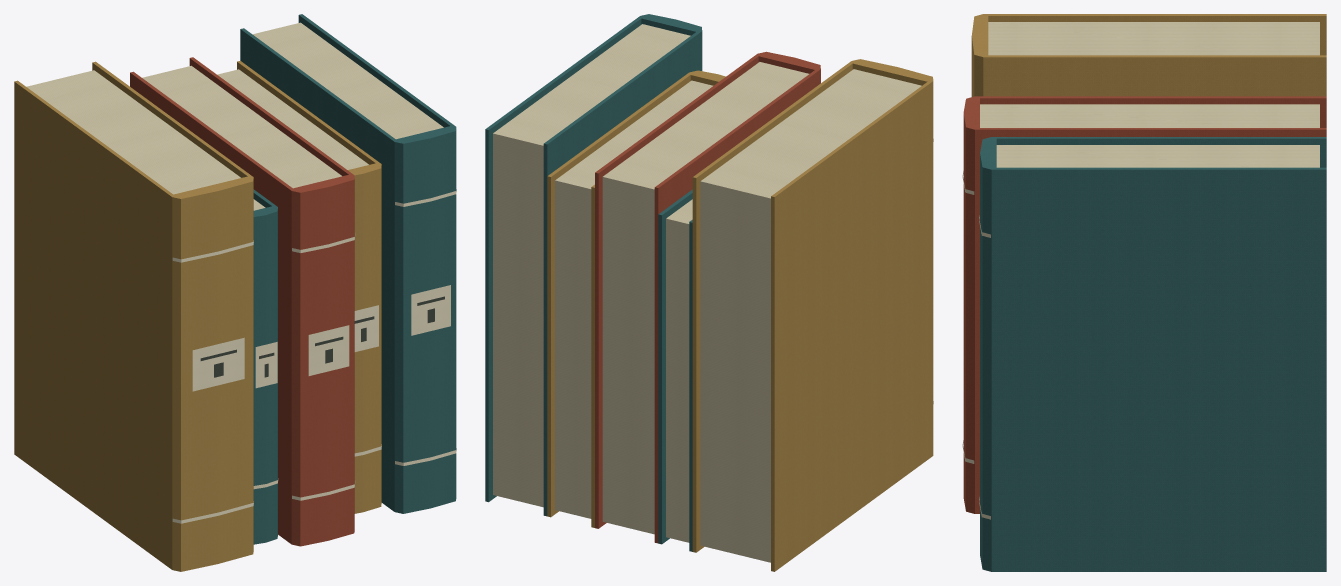
The model's file is quiet_books_right.glb.
3 renders of one model, left to right at view 1: azimuth 30°, elevation 25°; view 2: azimuth 150°, elevation 25°; view 3: azimuth 270°, elevation 25°, orthographic. The views are drawn at different scales.
Visible parts, largest first — view 1: QA_EXISTING_BOOKS_right_ASTRAEA_book_cover_ochre, QA_EXISTING_BOOKS_right_ASTRAEA_book_cover_teal, QA_EXISTING_BOOKS_right_ASTRAEA_book_cover_clay, QA_EXISTING_BOOKS_right_ASTRAEA_book_paper_edges, QA_EXISTING_BOOKS_right_ASTRAEA_book_label_paper, QA_EXISTING_BOOKS_right_ASTRAEA_book_print_ink; view 2: QA_EXISTING_BOOKS_right_ASTRAEA_book_paper_edges, QA_EXISTING_BOOKS_right_ASTRAEA_book_cover_ochre, QA_EXISTING_BOOKS_right_ASTRAEA_book_cover_teal, QA_EXISTING_BOOKS_right_ASTRAEA_book_cover_clay; view 3: QA_EXISTING_BOOKS_right_ASTRAEA_book_cover_teal, QA_EXISTING_BOOKS_right_ASTRAEA_book_paper_edges, QA_EXISTING_BOOKS_right_ASTRAEA_book_cover_ochre, QA_EXISTING_BOOKS_right_ASTRAEA_book_cover_clay.
Part boxes in pixels (<box>): QA_EXISTING_BOOKS_right_ASTRAEA_book_cover_ochre: <box>14,60,381,571</box>; QA_EXISTING_BOOKS_right_ASTRAEA_book_cover_teal: <box>240,14,456,544</box>; QA_EXISTING_BOOKS_right_ASTRAEA_book_cover_clay: <box>130,57,354,546</box>; QA_EXISTING_BOOKS_right_ASTRAEA_book_paper_edges: <box>26,22,443,210</box>; QA_EXISTING_BOOKS_right_ASTRAEA_book_label_paper: <box>172,189,456,523</box>; QA_EXISTING_BOOKS_right_ASTRAEA_book_print_ink: <box>200,296,444,377</box>; QA_EXISTING_BOOKS_right_ASTRAEA_book_paper_edges: <box>493,24,921,562</box>; QA_EXISTING_BOOKS_right_ASTRAEA_book_cover_ochre: <box>547,59,933,571</box>; QA_EXISTING_BOOKS_right_ASTRAEA_book_cover_teal: <box>485,14,702,551</box>; QA_EXISTING_BOOKS_right_ASTRAEA_book_cover_clay: <box>595,51,820,543</box>; QA_EXISTING_BOOKS_right_ASTRAEA_book_cover_teal: <box>980,137,1326,571</box>; QA_EXISTING_BOOKS_right_ASTRAEA_book_paper_edges: <box>980,22,1319,167</box>; QA_EXISTING_BOOKS_right_ASTRAEA_book_cover_ochre: <box>971,14,1326,96</box>; QA_EXISTING_BOOKS_right_ASTRAEA_book_cover_clay: <box>963,96,1326,513</box>.
Size of the model in its own units: 0.219 by 0.271 by 0.2207.
Materials: 6 (6 with a texture image).
